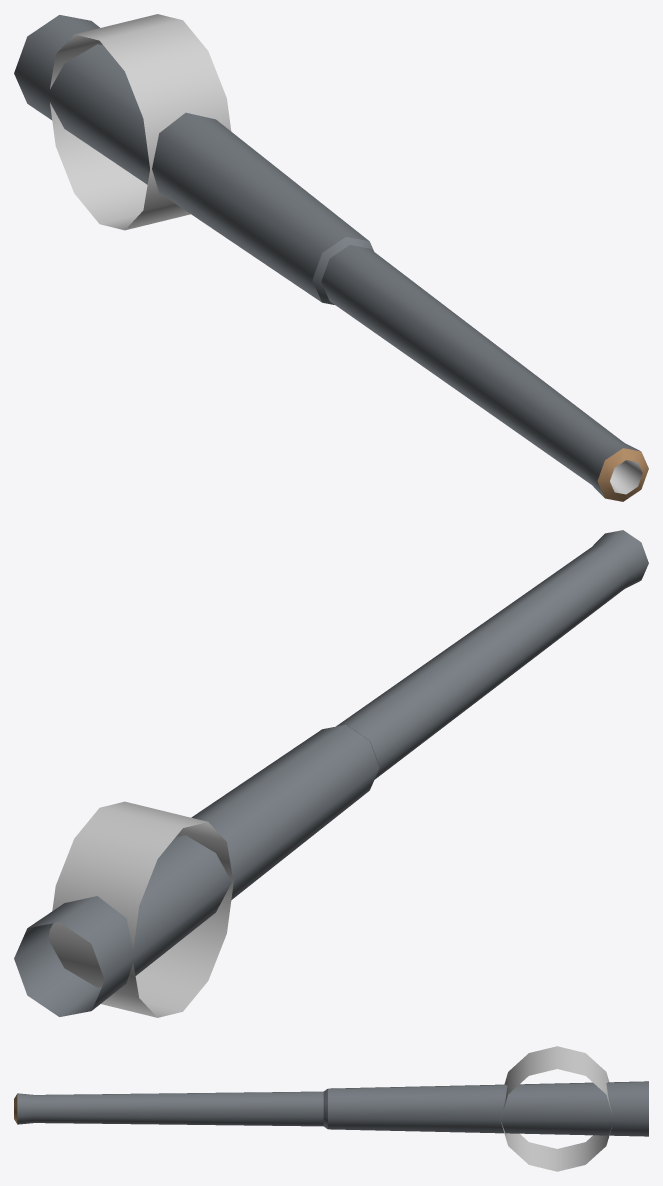
The model's file is Nel_gun_cal152x1_barrel_001_1_details_4.obj.
3 views of the same model, one above another, from view 1: azimuth 30°, elevation 25°; view 2: azimuth 150°, elevation 25°; view 3: azimuth 270°, elevation 25° (orthographic). The views are drawn at different scales.
Parts seen in each view (by area): view 1: Nel_gun_cal152x1_barrel_001_1_details_4_details_4, Nel_gun_cal152x1_barrel_001_1_details_4_details_2, Nel_gun_cal152x1_barrel_001_1_details_4_details_3; view 2: Nel_gun_cal152x1_barrel_001_1_details_4_details_4, Nel_gun_cal152x1_barrel_001_1_details_4_details_2; view 3: Nel_gun_cal152x1_barrel_001_1_details_4_details_4, Nel_gun_cal152x1_barrel_001_1_details_4_details_2.
Part boxes in pixels (bbox=[...]): Nel_gun_cal152x1_barrel_001_1_details_4_details_4: bbox=[14, 15, 640, 497]; Nel_gun_cal152x1_barrel_001_1_details_4_details_2: bbox=[50, 14, 642, 494]; Nel_gun_cal152x1_barrel_001_1_details_4_details_3: bbox=[597, 448, 648, 501]; Nel_gun_cal152x1_barrel_001_1_details_4_details_4: bbox=[14, 530, 648, 1016]; Nel_gun_cal152x1_barrel_001_1_details_4_details_2: bbox=[49, 801, 233, 1017]; Nel_gun_cal152x1_barrel_001_1_details_4_details_4: bbox=[17, 1081, 648, 1136]; Nel_gun_cal152x1_barrel_001_1_details_4_details_2: bbox=[500, 1046, 612, 1171].
Bounding box in the file's own units: 0.6925 × 1.34 × 7.49.
